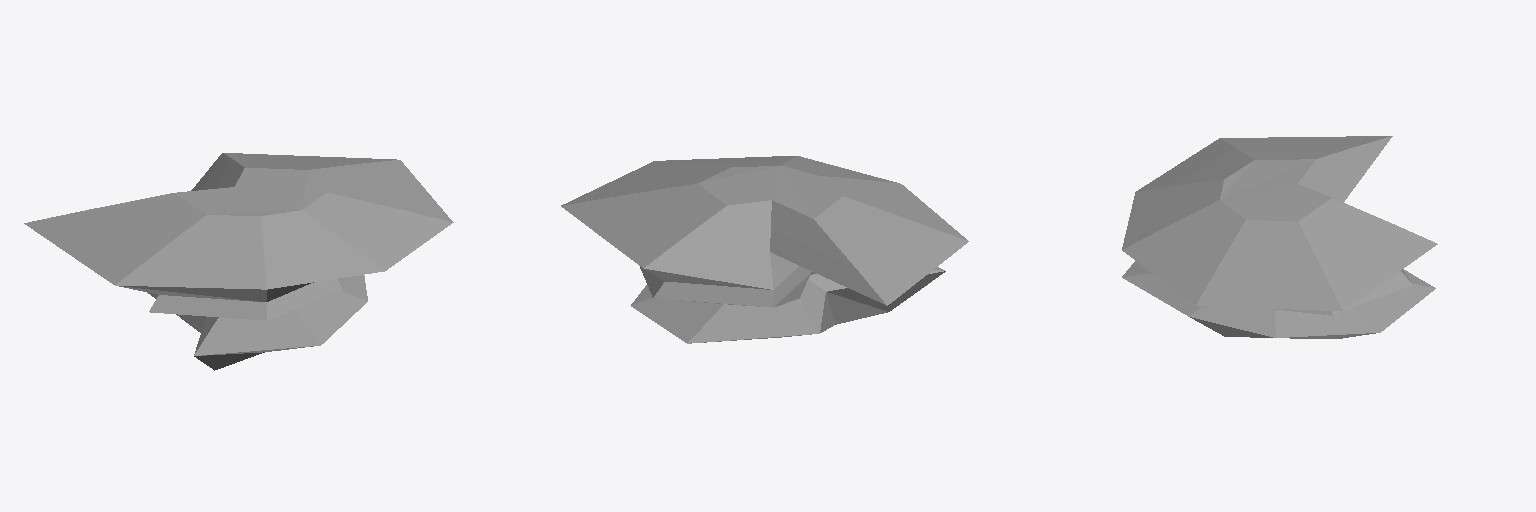
Rendered from Rock3.obj.
3 renders of one model, left to right at view 1: azimuth 30°, elevation 25°; view 2: azimuth 150°, elevation 25°; view 3: azimuth 270°, elevation 25°, orthographic.
Parts seen in each view (by area): view 1: Cube.002; view 2: Cube.002; view 3: Cube.002.
Boxes of the visible parts, x1,y1,x2,y2 form: Cube.002: [24, 153, 453, 370]; Cube.002: [561, 156, 968, 343]; Cube.002: [1122, 136, 1437, 338].
Size of the model in its own units: 12.61 by 4.49 by 9.83.